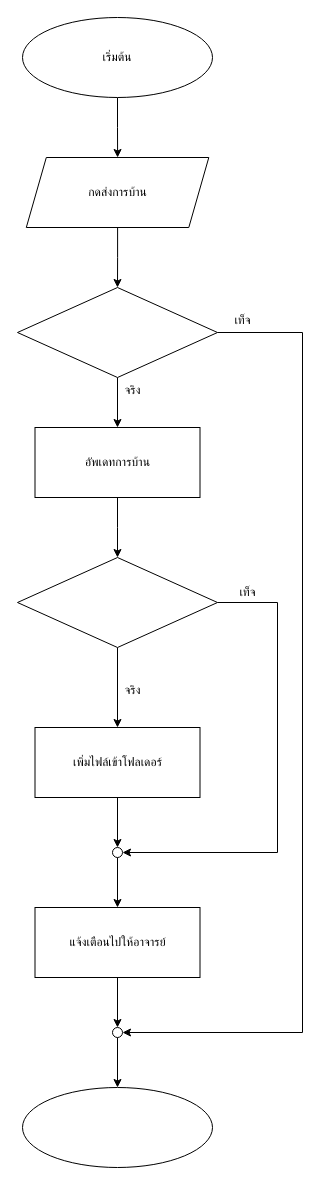
Some shapes in this 328 by 1185 pixel diagram are drawn without their labels. The shapes that lost their labels are listed below. From the top down, each one's box as (x1, y1, x2, y2) in pixels, then its label:
(16, 286, 218, 378): ตรวจสอบไม่มี เวลาสิ้นสุดการส่งงาน
(16, 556, 218, 648): ตรวจสอบไฟล์ที่อัปโหลด
(22, 1086, 212, 1168): สิ้นสุด
